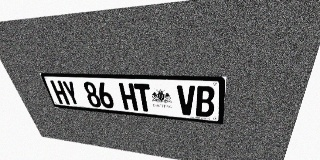6: (95, 82, 115, 109)
8: (82, 81, 102, 108)
B: (196, 86, 215, 117)
H: (118, 83, 138, 111), (50, 80, 70, 105)
T: (134, 83, 153, 112)
V: (177, 85, 195, 116)
Y: (61, 81, 81, 106)
